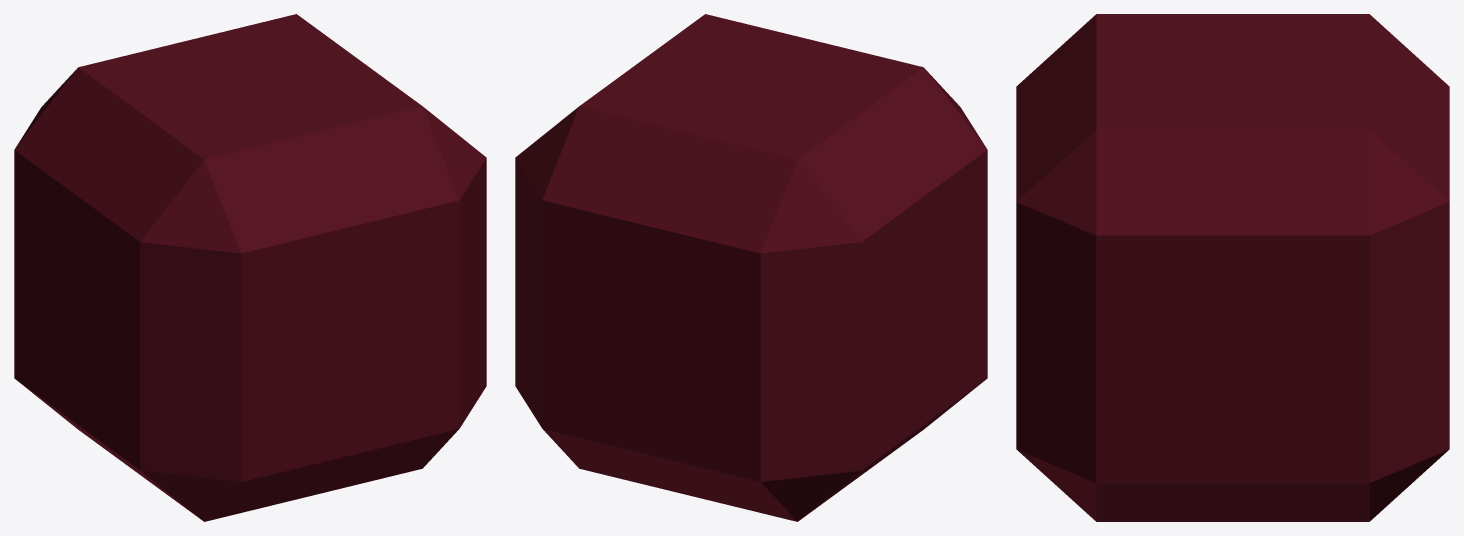
Rendered from FichaNegra.obj.
The picture shows the model from 3 angles, left to right: view 1: azimuth 30°, elevation 25°; view 2: azimuth 150°, elevation 25°; view 3: azimuth 270°, elevation 25°; orthographic projection. The views are drawn at different scales.
Parts seen in each view (by area): view 1: FichaNegra_Cube.002; view 2: FichaNegra_Cube.002; view 3: FichaNegra_Cube.002.
Boxes of the visible parts, x1=… form: FichaNegra_Cube.002: x1=14, y1=14, x2=486, y2=521; FichaNegra_Cube.002: x1=515, y1=14, x2=987, y2=521; FichaNegra_Cube.002: x1=1016, y1=14, x2=1449, y2=521.
Size of the model in its own units: 1.74 by 1.74 by 1.74.
1 material, 1 textured.
